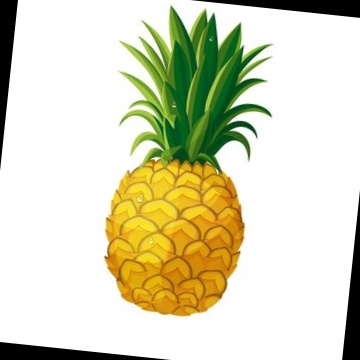Pineapple: (102, 5, 277, 317)
